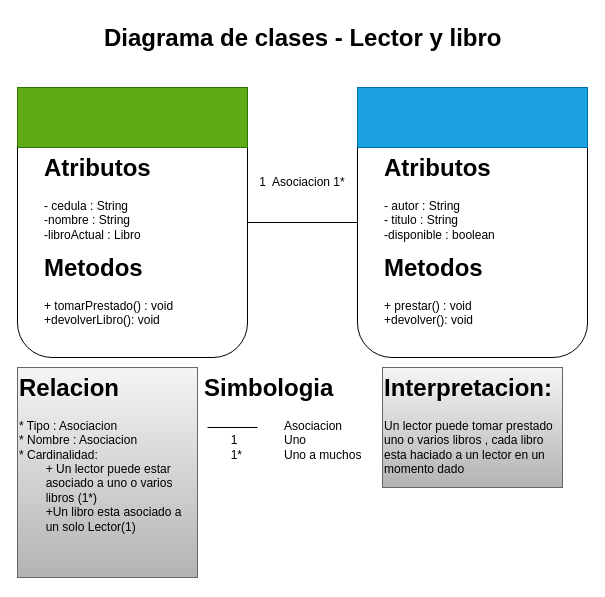
Some shapes in this 605 by 597 pixel diagram are drawn without their labels. The box of each missing label's shape, as (x1, y1, x2, y2) in pixels:
Lector: (16, 86, 248, 148)
Libro: (356, 86, 588, 148)
